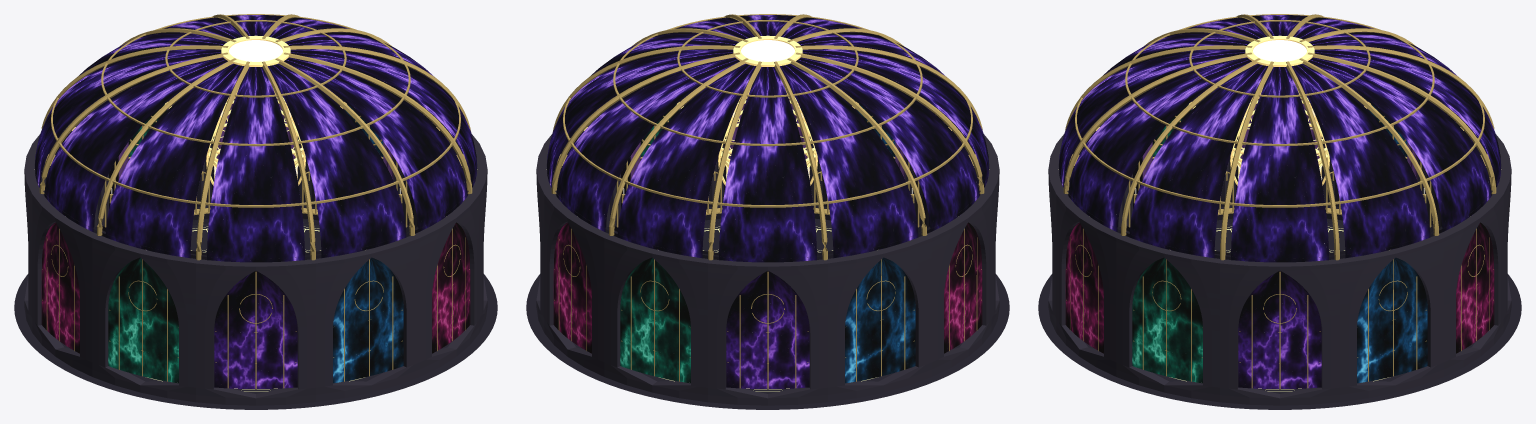
Rendered from luminarium-web.glb.
The picture shows the model from 3 angles, left to right: view 1: azimuth 30°, elevation 25°; view 2: azimuth 150°, elevation 25°; view 3: azimuth 270°, elevation 25°; orthographic projection.
Parts seen in each view (by area): view 1: LUM_DomeWebs, LUM_BayWalls, LUM_DomeRibs, LUM_Glass_08, LUM_Glass_07, LUM_Glass_09, LUM_Floor, LUM_DomeRings, LUM_Glass_06, LUM_Glass_10, LUM_Tracery, LUM_Piers (+6 smaller); view 2: LUM_DomeWebs, LUM_BayWalls, LUM_DomeRibs, LUM_Glass_04, LUM_Glass_05, LUM_Glass_03, LUM_Floor, LUM_DomeRings, LUM_Glass_02, LUM_Glass_06, LUM_Tracery, LUM_Piers (+6 smaller); view 3: LUM_DomeWebs, LUM_BayWalls, LUM_DomeRibs, LUM_Glass_00, LUM_Glass_11, LUM_Glass_01, LUM_Floor, LUM_DomeRings, LUM_Glass_02, LUM_Glass_10, LUM_Tracery, LUM_Piers (+6 smaller).
Boxes of the visible parts, box(x1,y1,x2,y2) form: LUM_DomeWebs: box(35, 15, 476, 262); LUM_BayWalls: box(24, 87, 487, 405); LUM_DomeRibs: box(39, 14, 472, 260); LUM_Glass_08: box(214, 271, 297, 388); LUM_Glass_07: box(108, 257, 178, 383); LUM_Glass_09: box(333, 257, 403, 383); LUM_Floor: box(14, 218, 497, 409); LUM_DomeRings: box(51, 14, 460, 207); LUM_Glass_06: box(41, 222, 79, 353); LUM_Glass_10: box(432, 222, 470, 353); LUM_Tracery: box(42, 116, 469, 389); LUM_Piers: box(43, 136, 468, 259); LUM_DomeWebs: box(547, 15, 988, 262); LUM_BayWalls: box(536, 87, 999, 405); LUM_DomeRibs: box(551, 14, 984, 260); LUM_Glass_04: box(726, 271, 809, 388); LUM_Glass_05: box(845, 257, 915, 383); LUM_Glass_03: box(620, 257, 690, 383); LUM_Floor: box(526, 218, 1009, 409); LUM_DomeRings: box(563, 14, 972, 207); LUM_Glass_02: box(553, 222, 591, 353); LUM_Glass_06: box(944, 222, 982, 353); LUM_Tracery: box(554, 116, 981, 389); LUM_Piers: box(555, 136, 980, 259); LUM_DomeWebs: box(1059, 15, 1500, 262); LUM_BayWalls: box(1048, 87, 1511, 405); LUM_DomeRibs: box(1063, 14, 1496, 260); LUM_Glass_00: box(1238, 271, 1321, 388); LUM_Glass_11: box(1132, 257, 1202, 383); LUM_Glass_01: box(1357, 257, 1427, 383); LUM_Floor: box(1038, 218, 1521, 409); LUM_DomeRings: box(1075, 14, 1484, 207); LUM_Glass_02: box(1456, 222, 1494, 353); LUM_Glass_10: box(1065, 222, 1103, 353); LUM_Tracery: box(1066, 116, 1493, 389); LUM_Piers: box(1067, 136, 1492, 259).
Size of the model in its own units: 28.4 by 17.13 by 28.4.
Materials: 22 (5 with a texture image).
